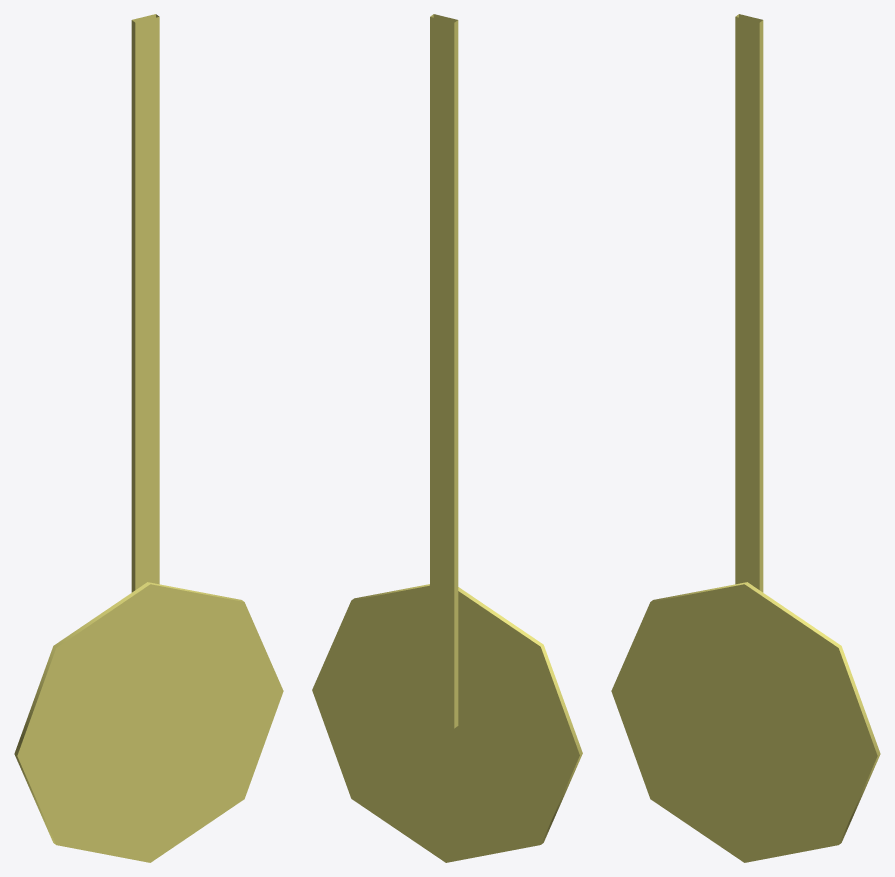
Rendered from Itr_Obj_Grandfatherclock1_Pendulum_01.FBX.
The picture shows the model from 3 angles, left to right: view 1: azimuth 30°, elevation 25°; view 2: azimuth 150°, elevation 25°; view 3: azimuth 330°, elevation 25°; orthographic projection.
Parts seen in each view (by area): view 1: Itr_Obj_Grandfatherclock1_Pendulum_01; view 2: Itr_Obj_Grandfatherclock1_Pendulum_01; view 3: Itr_Obj_Grandfatherclock1_Pendulum_01.
Boxes of the visible parts, <box> form: Itr_Obj_Grandfatherclock1_Pendulum_01: <box>14,14,283,862</box>; Itr_Obj_Grandfatherclock1_Pendulum_01: <box>312,14,582,862</box>; Itr_Obj_Grandfatherclock1_Pendulum_01: <box>611,14,880,862</box>.
Bounding box in the file's own units: 6.22 × 18.78 × 0.2715.
